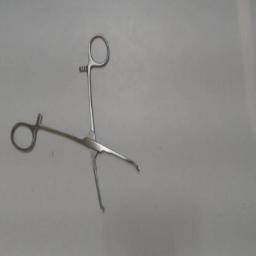Allis Tissue Forceps: (6, 26, 148, 222)
